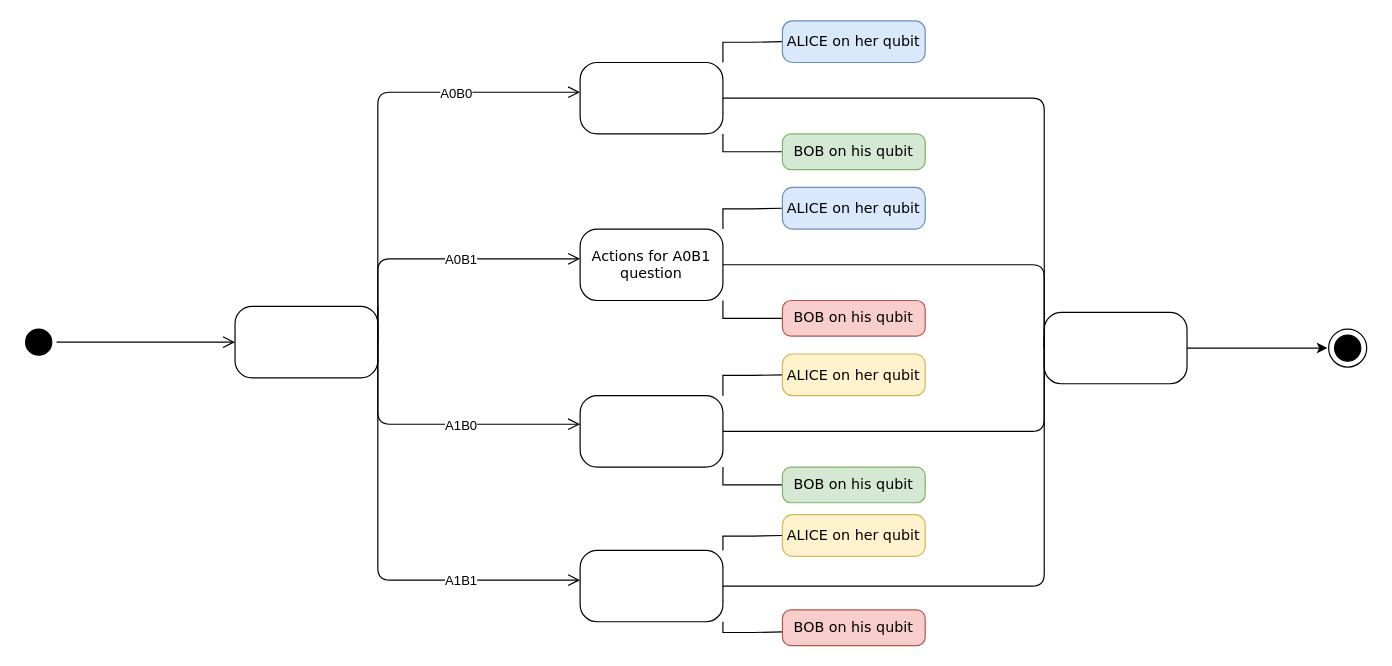
Some shapes in this 1392 by 666 pixel diagram are drawn without their labels. The box of each missing label's shape, as (x1, y1, x2, y2) in pixels:
Actions for A0B0 question: (579, 61, 723, 134)
Actions for A1B0 question: (579, 394, 723, 467)
Actions for A1B1 question: (579, 549, 723, 622)
Entangled state for each question [ES1,ES2,ES3,ES4]: (234, 305, 378, 378)
Result state for each question [ES1,ES2,ES3,ES4]: (1043, 311, 1187, 384)
